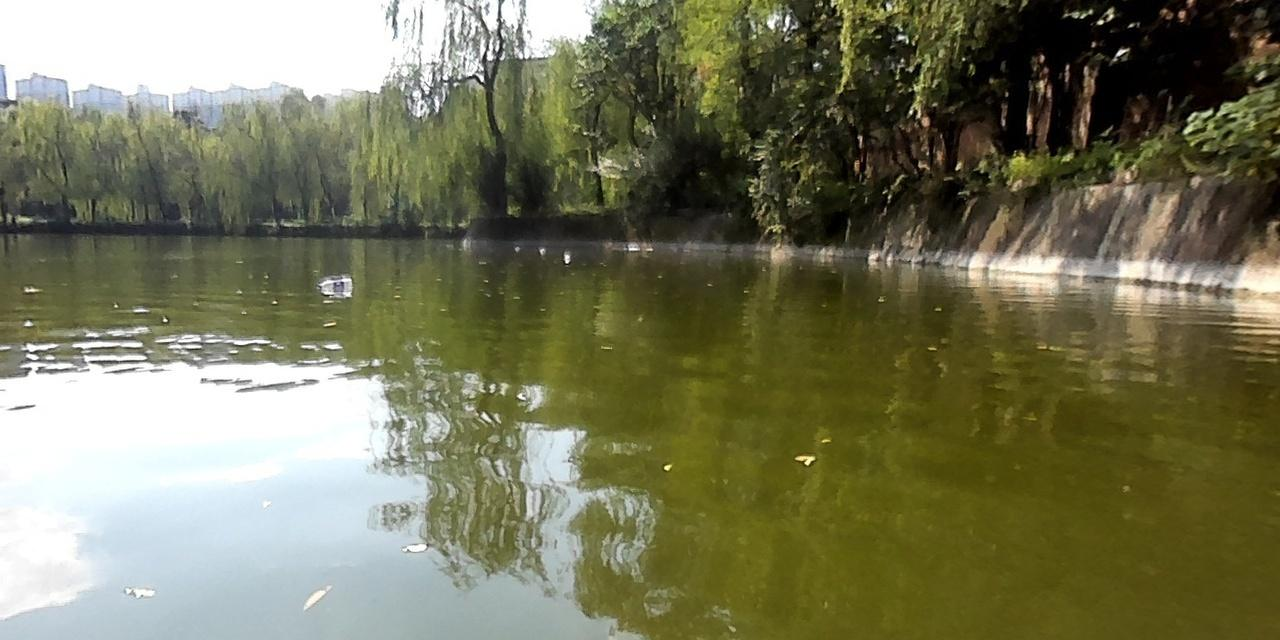bottle: (316, 273, 352, 295)
